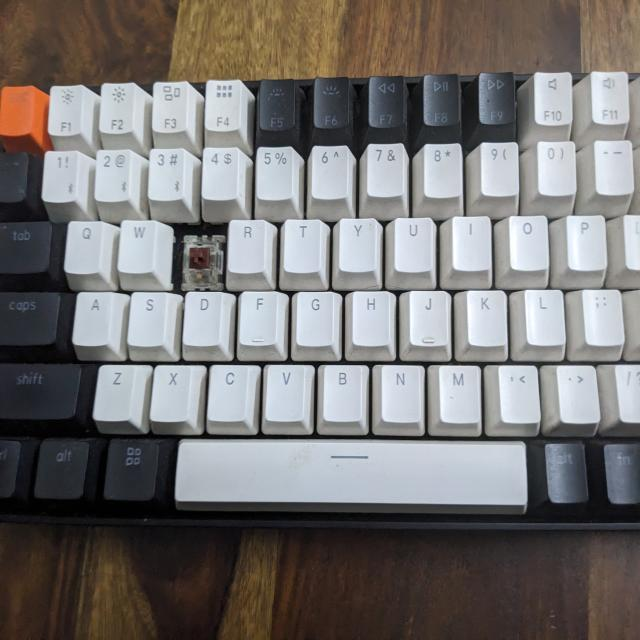C: (179, 230, 220, 289)
